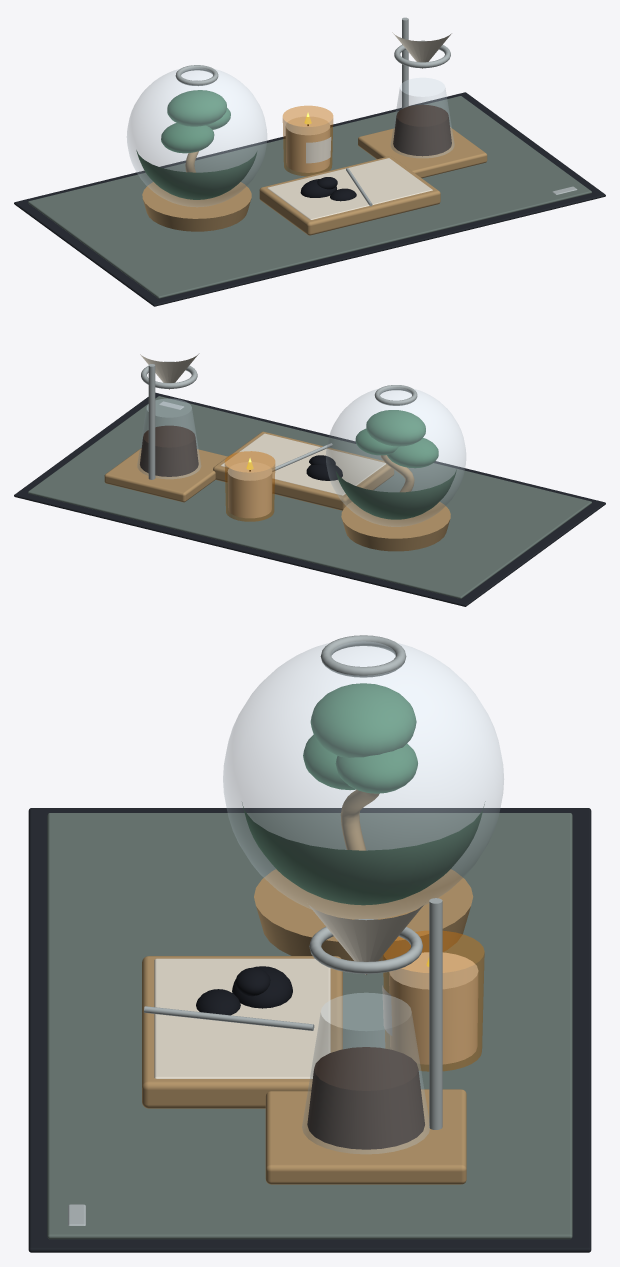
The model's file is atelier-decor-botanical-nordic.glb.
The picture shows the model from 3 angles, top to bottom: view 1: azimuth 30°, elevation 25°; view 2: azimuth 150°, elevation 25°; view 3: azimuth 270°, elevation 25°; orthographic projection. The views are drawn at different scales.
Bounding box in the file's own units: 0.78 × 0.234 × 0.4201.
